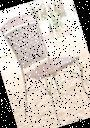Silla: (0, 1, 89, 127)
